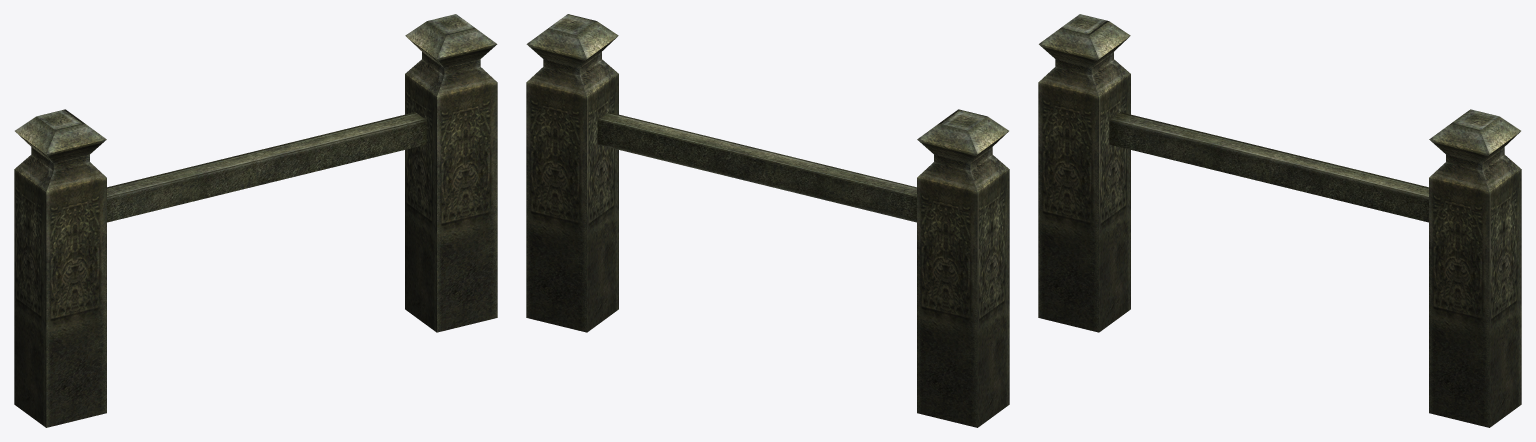
Rendered from ob_stone_fence_a.fbx.
The picture shows the model from 3 angles, left to right: view 1: azimuth 30°, elevation 25°; view 2: azimuth 150°, elevation 25°; view 3: azimuth 330°, elevation 25°; orthographic projection.
Visible parts, largest first — view 1: Object01; view 2: Object01; view 3: Object01.
Boxes of the visible parts, left/top/right/bottom form: Object01: left=14, top=14, right=497, bottom=427; Object01: left=526, top=14, right=1009, bottom=427; Object01: left=1038, top=14, right=1521, bottom=427.
Bounding box in the file's own units: 4.7 × 2.87 × 0.5739.
